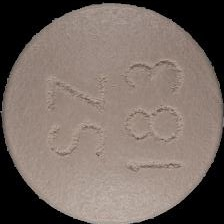0781-5405: (0, 0, 224, 224)
